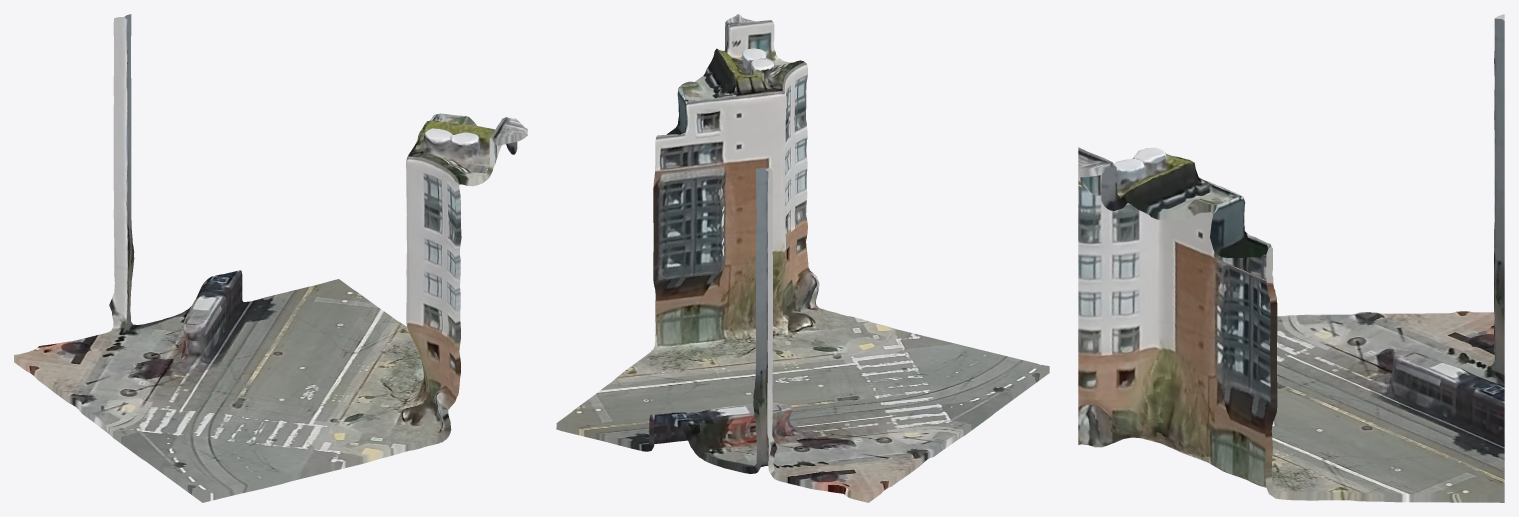
File: z20-167791-405228-h0-yup-uvflip-v3-world.glb
3 renders of one model, left to right at view 1: azimuth 30°, elevation 25°; view 2: azimuth 150°, elevation 25°; view 3: azimuth 270°, elevation 25°, orthographic. The views are drawn at different scales.
Bounding box in the file's own units: 30.2 × 28.68 × 30.32.
1 material, 1 textured.
